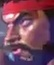ryu: (1, 0, 47, 63)
